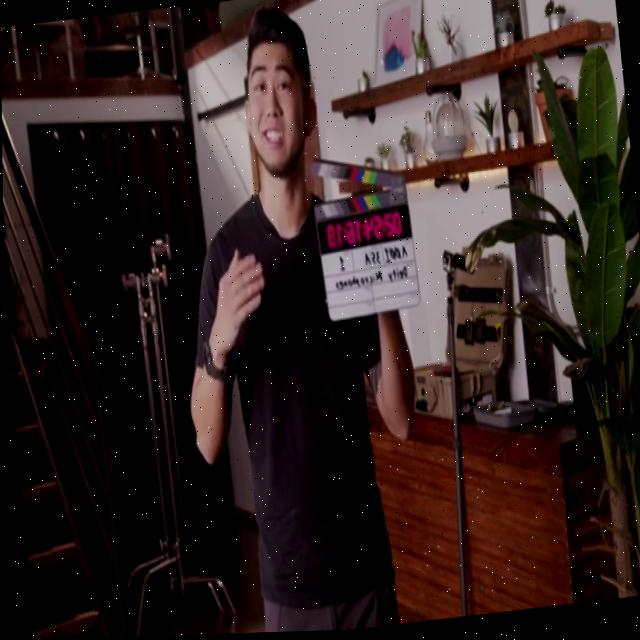Clapperboard: (308, 141, 421, 324)
